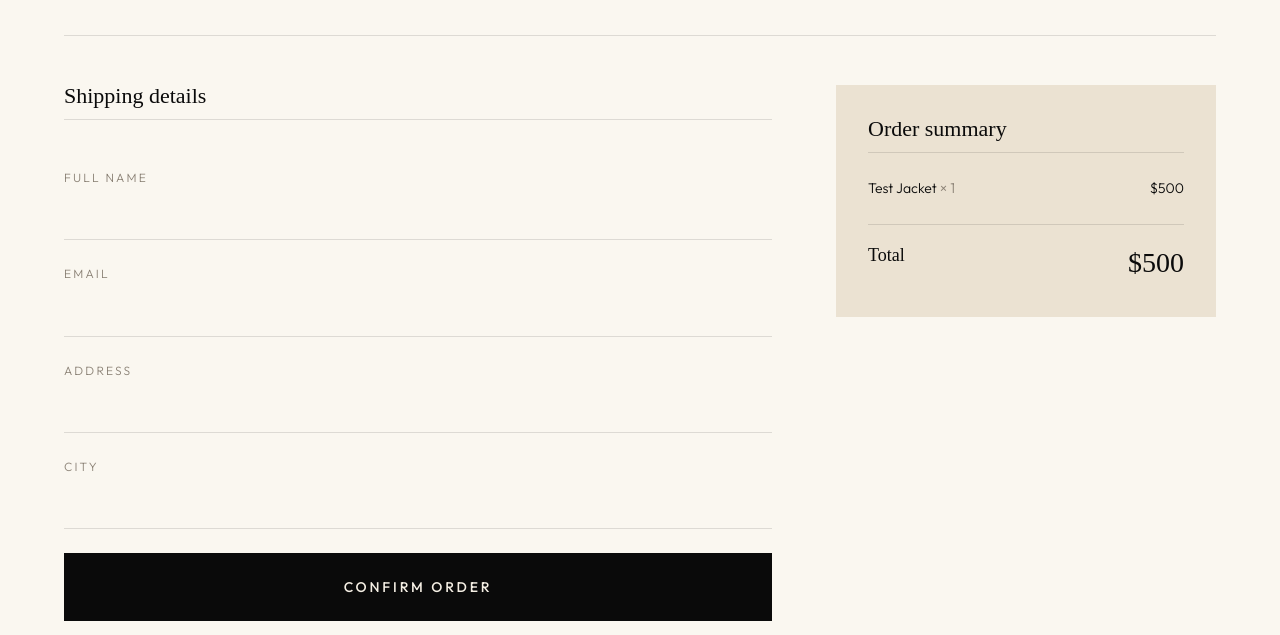
Scenario: Page commande › efface l'erreur quand on corrige le champ
This screenshot has width=1280, height=635.
(page scrolled)
Click the button "Confirm order" at (418, 587), box [64,553,772,621]
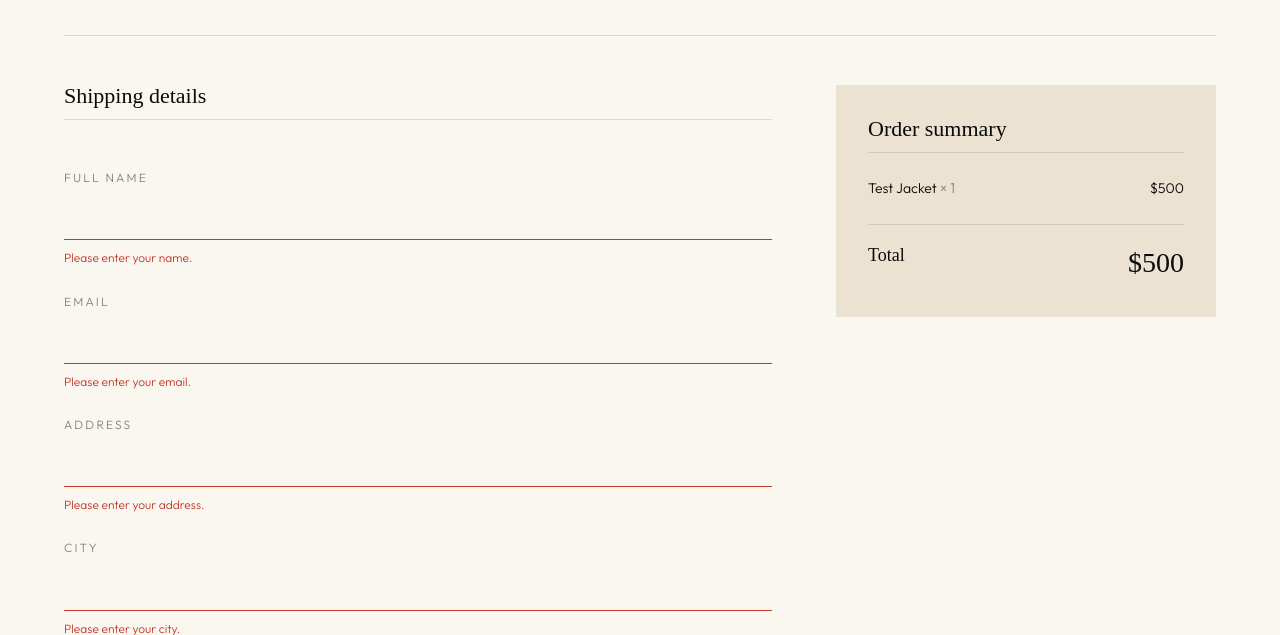
Check: the text "Please enter your name." is shown, box [64,250,192,266]
Type "B" into the field labelled "Full name" at (418, 218), box [64,196,772,240]
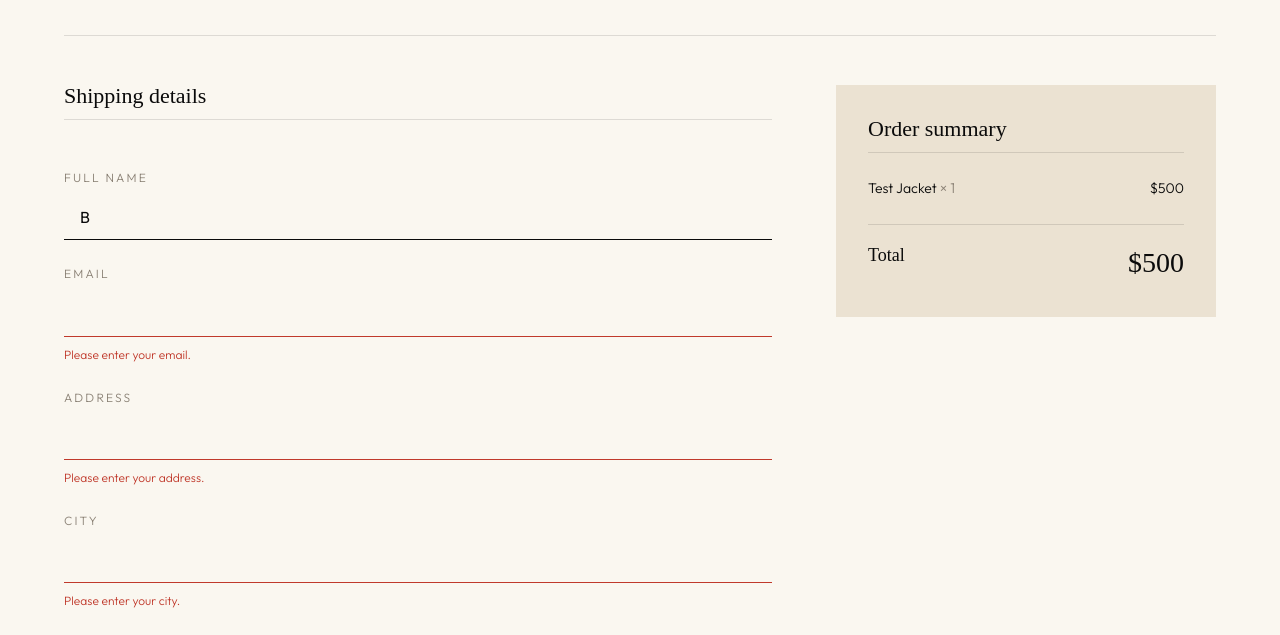
Check: the text "Please enter your name" is gone
